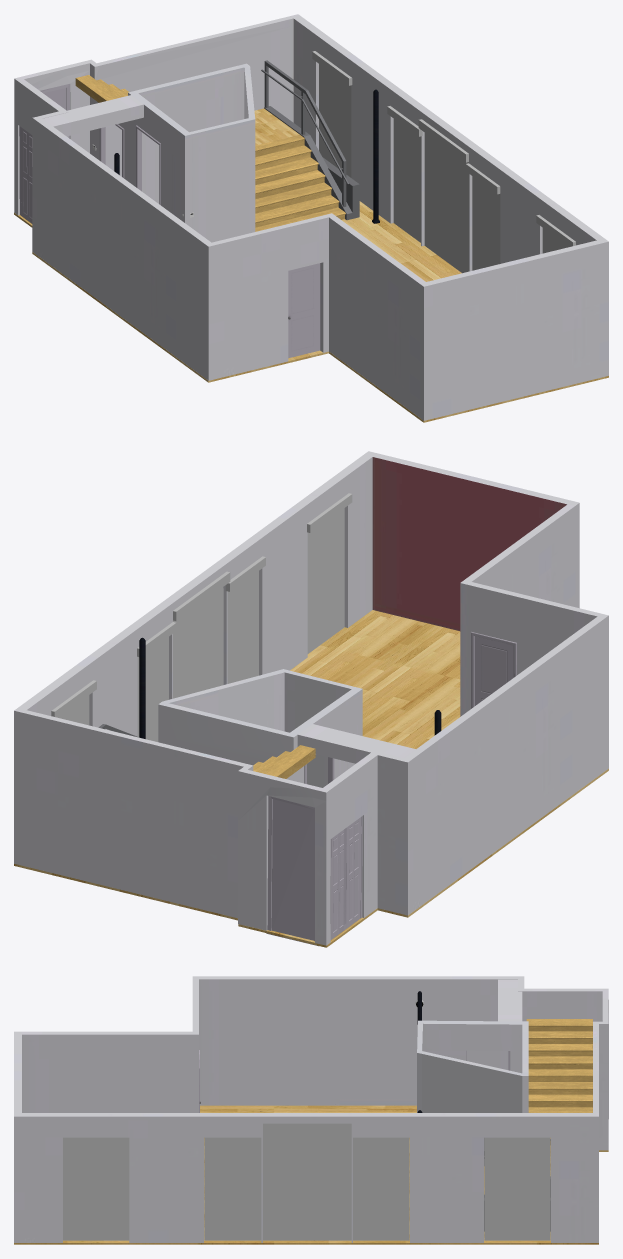
Rendered from apartment.glb.
The picture shows the model from 3 angles, top to bottom: view 1: azimuth 30°, elevation 25°; view 2: azimuth 150°, elevation 25°; view 3: azimuth 270°, elevation 25°; orthographic projection. The views are drawn at different scales.
Parts seen in each view (by area): view 1: frl_apartment_wall, frl_apartment_blinds, frl_apartment_stair, frl_apartment_floor, frl_apartment_door_01, frl_apartment_door_05, frl_apartment_pipe, frl_apartment_door_part.004; view 2: frl_apartment_wall, frl_apartment_blinds, frl_apartment_floor, frl_apartment_door_04, frl_apartment_door_01, frl_apartment_door_05, frl_apartment_door_06, frl_apartment_stair, frl_apartment_door_part.002, frl_apartment_pipe; view 3: frl_apartment_wall, frl_apartment_blinds, frl_apartment_stair, frl_apartment_floor.
Part boxes in pixels (box(x1,y1,x2,y2)): frl_apartment_wall: box(14, 14, 608, 420); frl_apartment_blinds: box(312, 51, 575, 273); frl_apartment_stair: box(75, 60, 359, 231); frl_apartment_floor: box(14, 201, 608, 422); frl_apartment_door_01: box(288, 263, 319, 358); frl_apartment_door_05: box(21, 127, 32, 223); frl_apartment_pipe: box(114, 89, 379, 223); frl_apartment_door_part.004: box(136, 125, 160, 205); frl_apartment_wall: box(14, 451, 608, 945); frl_apartment_blinds: box(51, 493, 352, 741); frl_apartment_floor: box(14, 610, 608, 947); frl_apartment_door_04: box(271, 799, 314, 940); frl_apartment_door_01: box(474, 636, 513, 705); frl_apartment_door_05: box(330, 828, 346, 939); frl_apartment_door_06: box(346, 817, 361, 928); frl_apartment_stair: box(98, 724, 315, 778); frl_apartment_door_part.002: box(266, 796, 318, 946); frl_apartment_pipe: box(139, 637, 441, 738); frl_apartment_wall: box(14, 976, 608, 1242); frl_apartment_blinds: box(63, 1123, 550, 1240); frl_apartment_stair: box(484, 1019, 592, 1231); frl_apartment_floor: box(14, 1105, 608, 1244).
Bounding box in the file's own units: 7.26 × 3.13 × 13.
10 materials, 9 textured.
